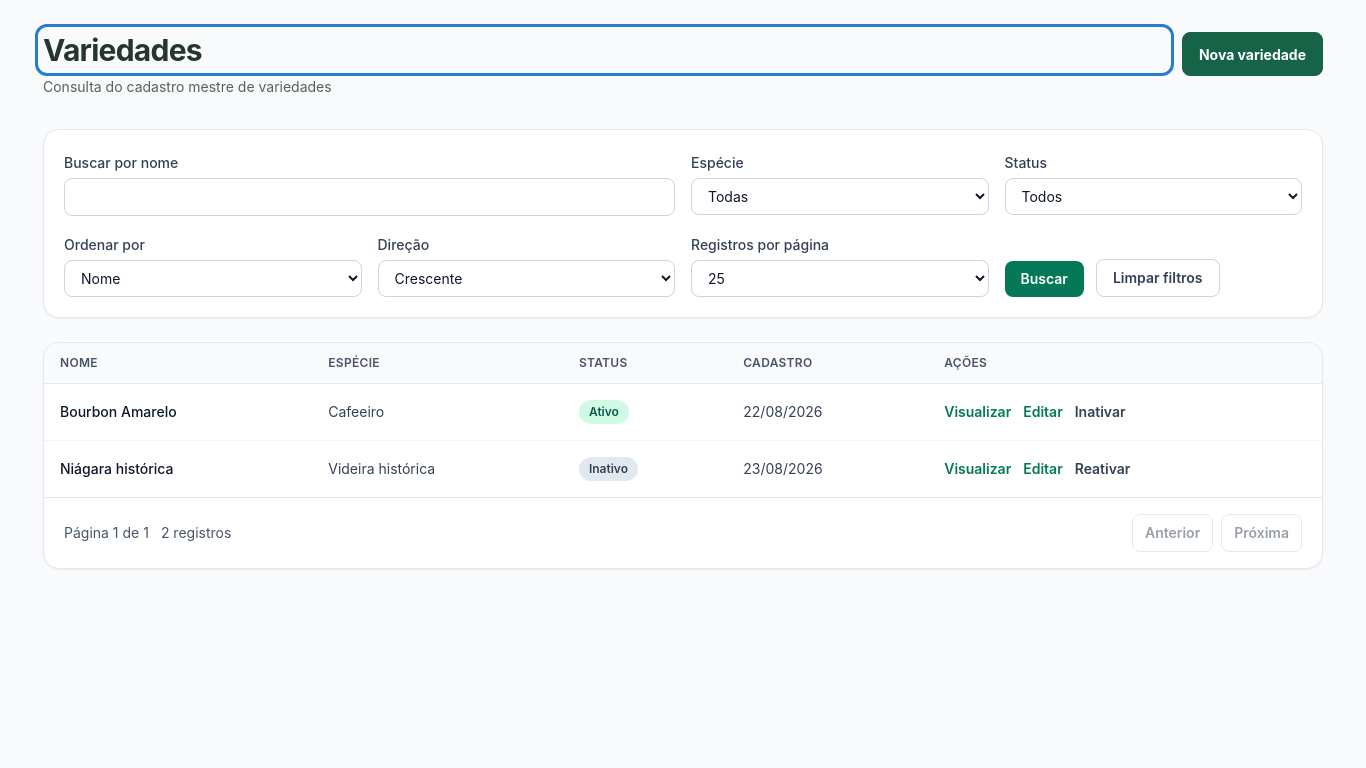
Test: VarietiesListPage › reativa variedade e apresenta erro de lifecycle sem perder a listagem
This screenshot has width=1366, height=768.
Expected: the text "Bourbon Amarelo" is shown, [44,384,312,440]
Click the button "Reativar" at (1103, 469), box [1075,459,1130,479]
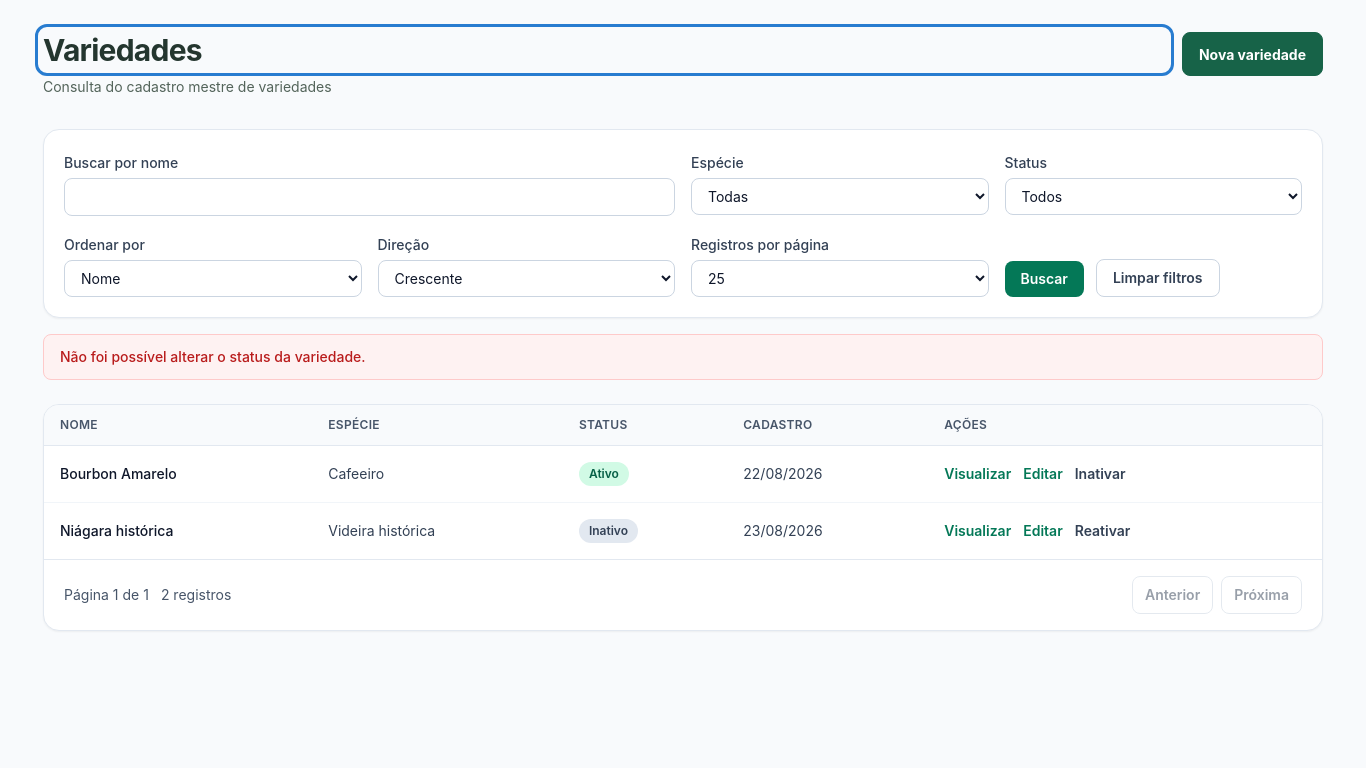
Expected: the text "Bourbon Amarelo" is shown, [44,446,312,502]
Expected: the message reads "Não foi possível alterar o status da variedade.", [60,348,366,365]
